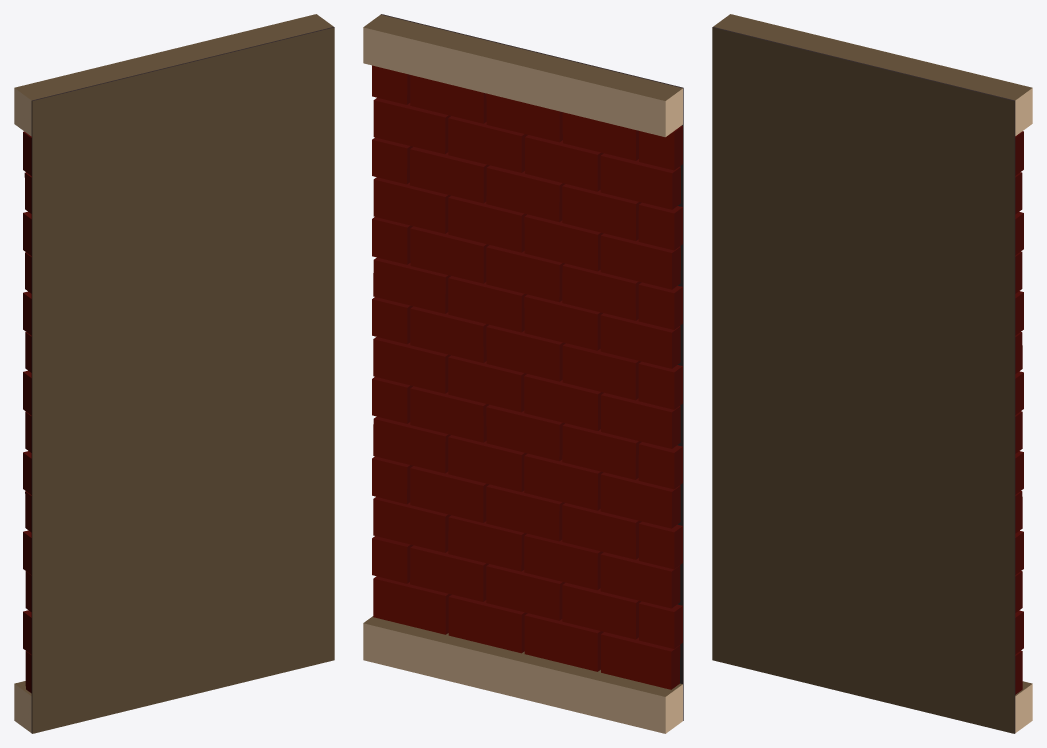
File: muroCEN.fbx
3 renders of one model, left to right at view 1: azimuth 30°, elevation 25°; view 2: azimuth 150°, elevation 25°; view 3: azimuth 330°, elevation 25°, orthographic.
Parts seen in each view (by area): view 1: MurCentro; view 2: MurCentro; view 3: MurCentro.
Part boxes in pixels (bbox=[...]): MurCentro: bbox=[14, 14, 334, 733]; MurCentro: bbox=[363, 14, 683, 733]; MurCentro: bbox=[712, 14, 1032, 733].
Bounding box in the file's own units: 200 × 400 × 20.95.
